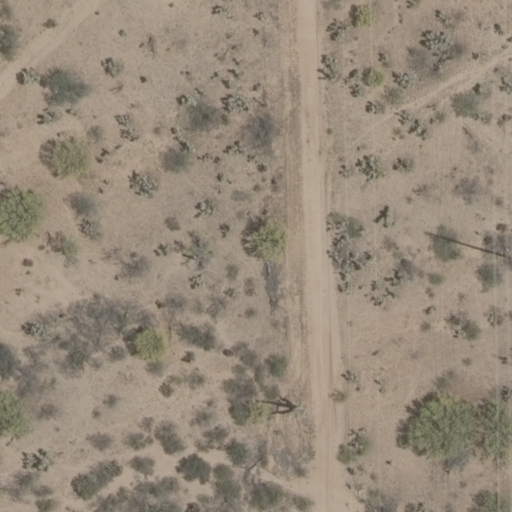DT: (490, 235, 511, 267)
